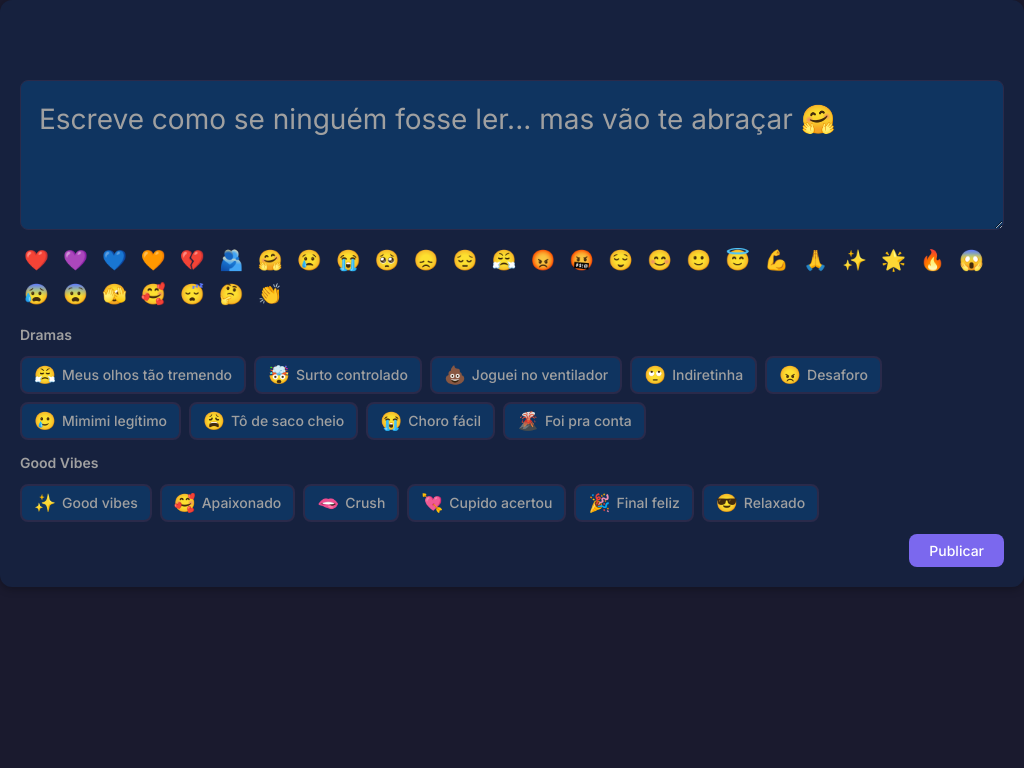
InputBox › Validação › exibe erro quando texto está vazio
This screenshot has width=1024, height=768.
Step 1. Click the button "Publicar" → (957, 550), box top-left (909, 534), bottom-right (1004, 567)
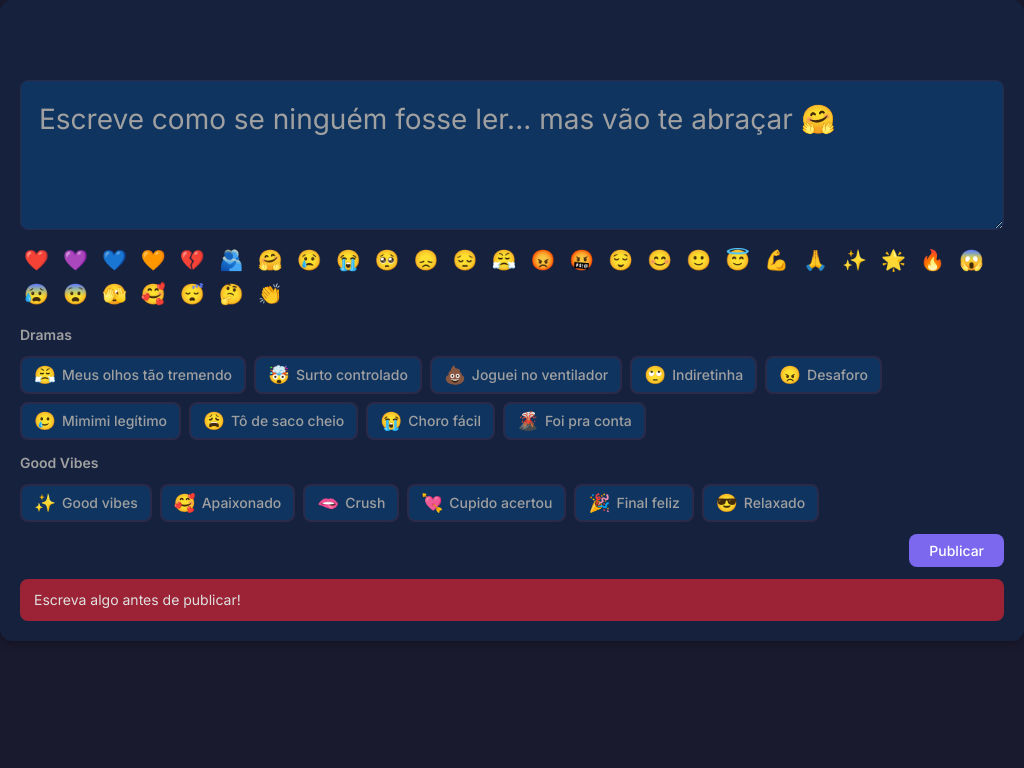
Expected: the text "Escreva algo antes de publicar!" is shown, top-left (20, 579), bottom-right (1004, 621)
